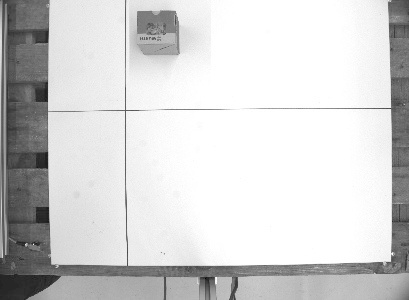b7: (133, 8, 182, 57)
